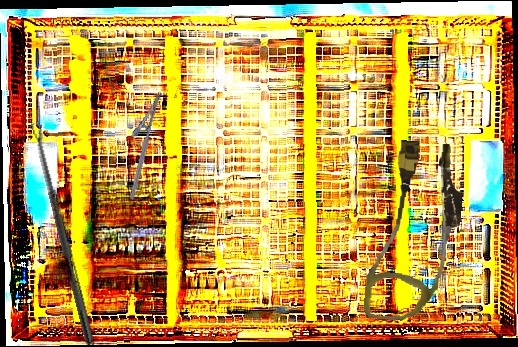Cannula: (362, 137, 468, 326)
Needle Holder: (115, 86, 163, 201)
Surgical Spoon: (30, 121, 97, 347)
